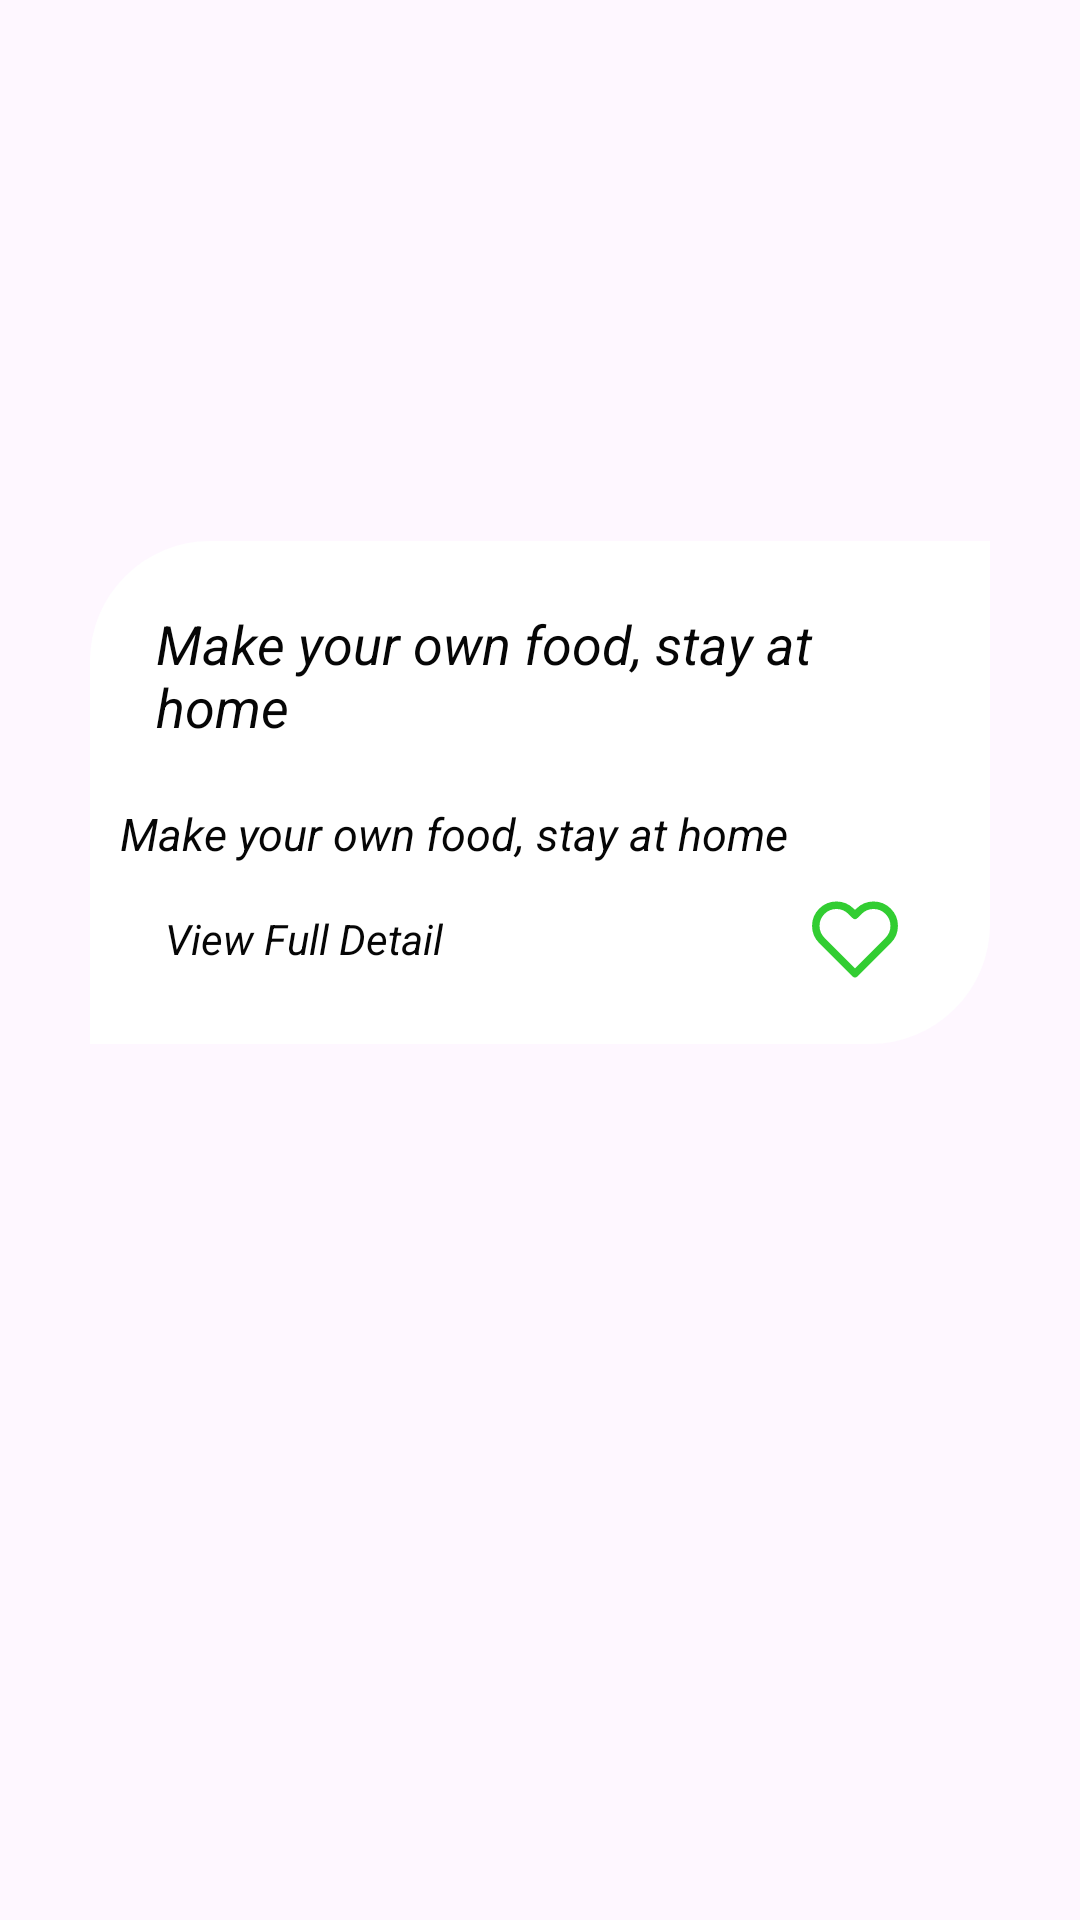

Where icons sit on this 1080px×1920px app screen, as {"x1": x1, "y1": y1, "x2": x2, "y2": y2}:
heart: {"x1": 812, "y1": 901, "x2": 898, "y2": 978}
